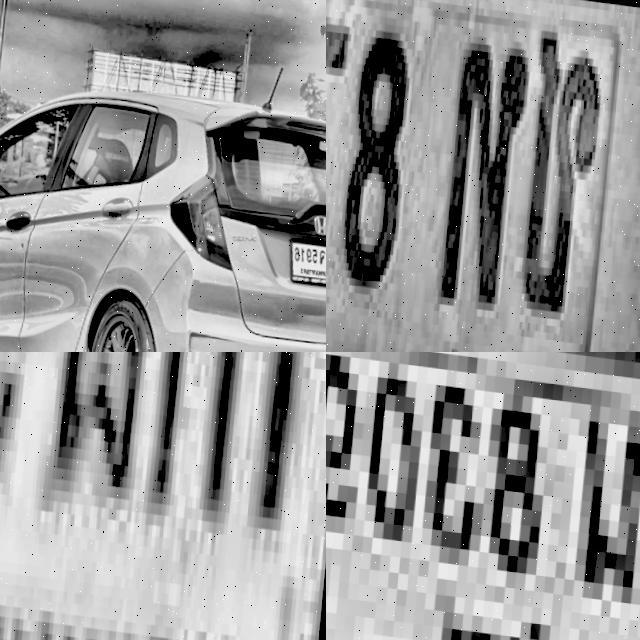license-plate: (326, 0, 640, 352), (0, 352, 326, 640), (326, 352, 640, 640), (289, 224, 326, 280)
